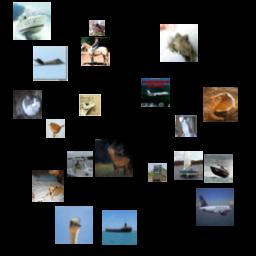airplane: (196, 188, 234, 226), (33, 46, 68, 81), (141, 78, 170, 107)
bird: (55, 206, 93, 244), (46, 119, 65, 138)
cat: (203, 87, 238, 122), (13, 90, 42, 119), (175, 115, 197, 137)
deer: (95, 139, 133, 177)
dog: (32, 170, 64, 202)
frog: (160, 24, 198, 62), (79, 94, 101, 116), (89, 20, 105, 36)
ship: (13, 2, 51, 40), (102, 210, 137, 245), (174, 151, 203, 180), (204, 154, 233, 183), (67, 151, 93, 177)
truck: (148, 163, 167, 182)
